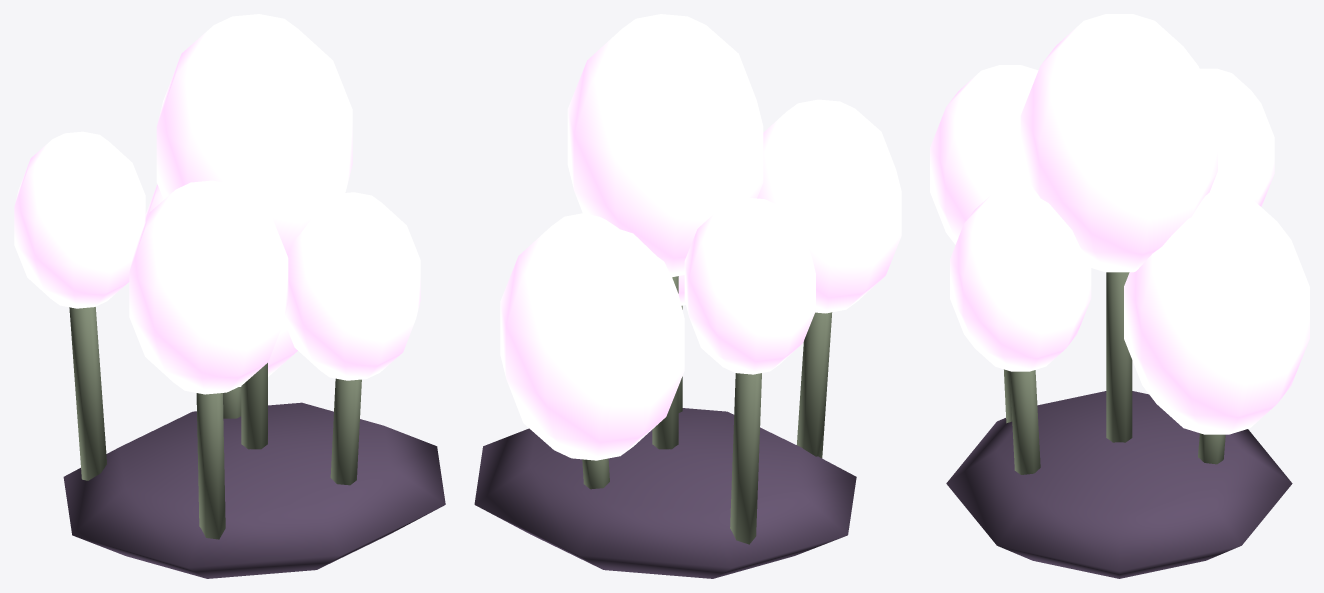
The model's file is v_ab_bulbs.glb.
3 views of the same model, side by side, from view 1: azimuth 30°, elevation 25°; view 2: azimuth 150°, elevation 25°; view 3: azimuth 270°, elevation 25° (orthographic).
Visible parts, largest first — view 1: Bulbs; view 2: Bulbs; view 3: Bulbs.
Boxes of the visible parts, <box> form: Bulbs: <box>14,14,445,578</box>; Bulbs: <box>474,14,901,578</box>; Bulbs: <box>930,14,1309,578</box>.
Size of the model in its own units: 0.9667 by 1.3 by 0.8771.
